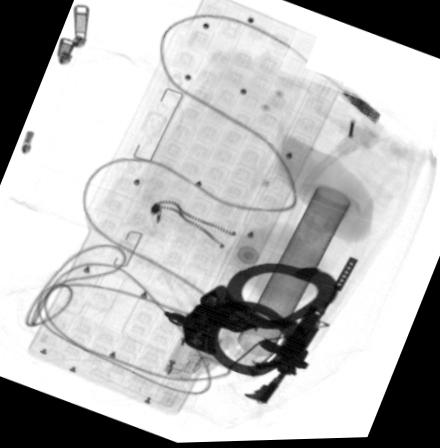Gun: (243, 252, 365, 408)
HandCuffs: (161, 263, 336, 381)
